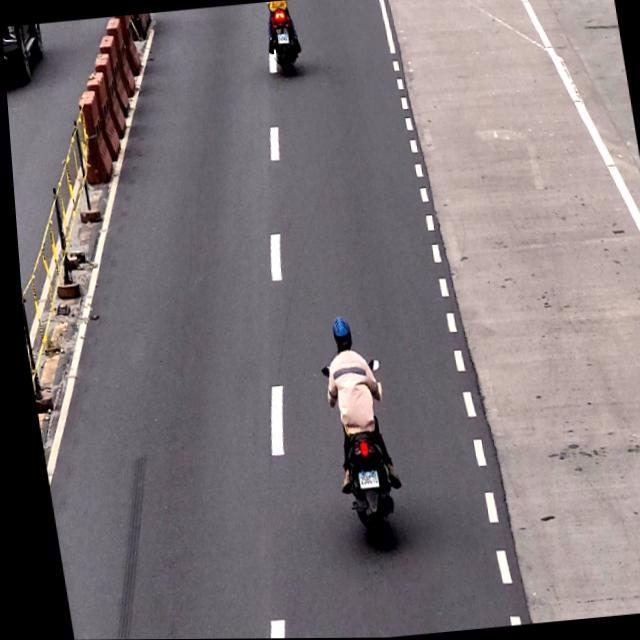License-Plate: (346, 464, 374, 492), (273, 31, 290, 45)
Motorcycle: (308, 315, 398, 549), (257, 0, 304, 80)
